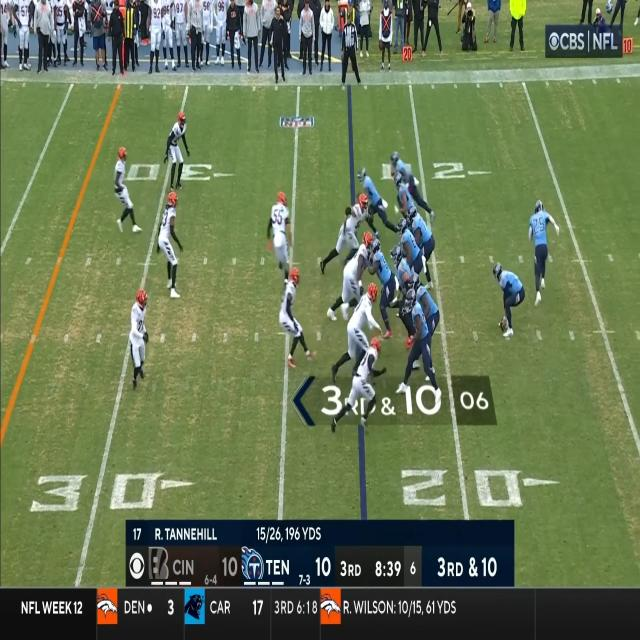players: (334, 281, 385, 384), (331, 339, 388, 431), (398, 289, 442, 400), (332, 240, 378, 324), (325, 198, 372, 273), (530, 201, 559, 308), (282, 270, 314, 366), (389, 156, 433, 224), (158, 192, 185, 300), (367, 239, 397, 333), (126, 288, 152, 396), (358, 172, 396, 242), (113, 148, 143, 236), (404, 209, 437, 283), (270, 194, 296, 286), (494, 263, 524, 341), (166, 114, 190, 196), (394, 232, 426, 292)
